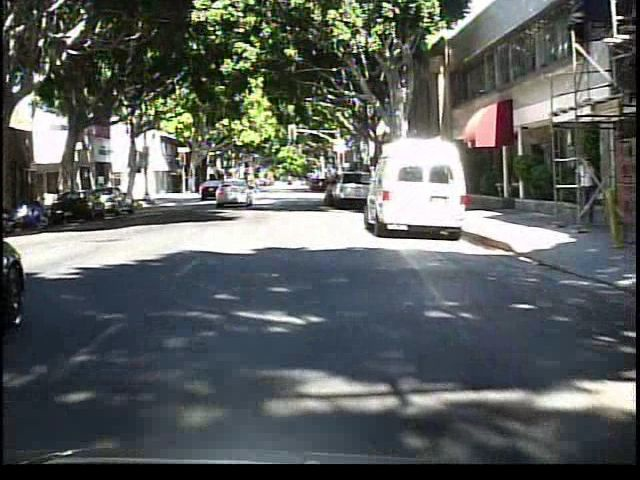person: (569, 155, 597, 234), (245, 175, 261, 205)
